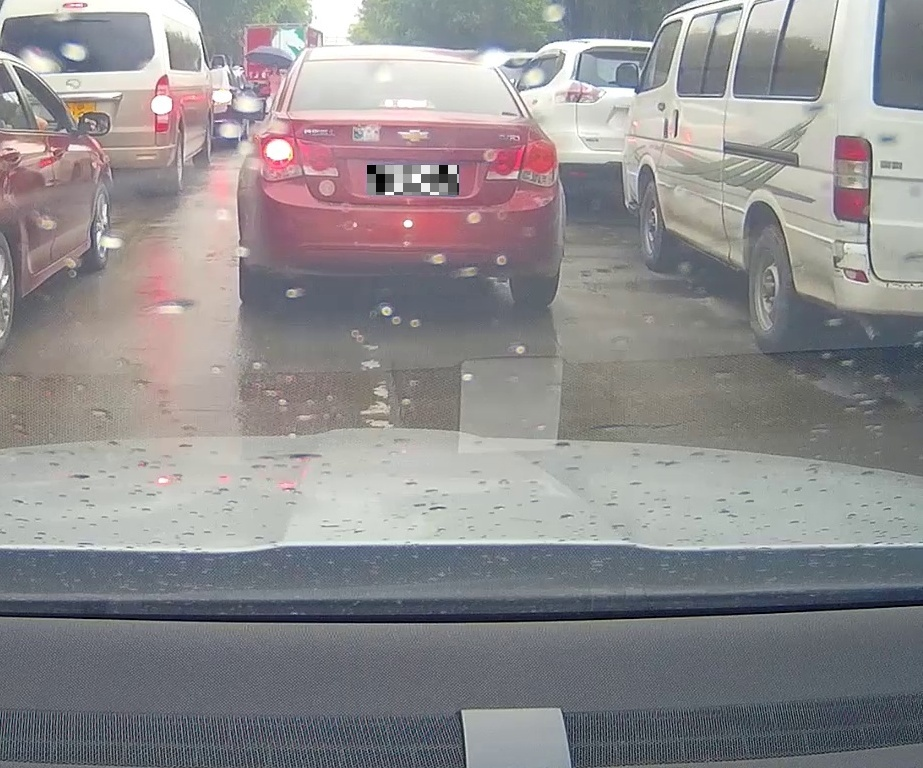L_light: (258, 133, 339, 182)
R_light: (485, 139, 559, 187)
T_light: (380, 97, 431, 109)
day-left: (236, 45, 566, 307)
plate_1: (367, 165, 459, 195)
